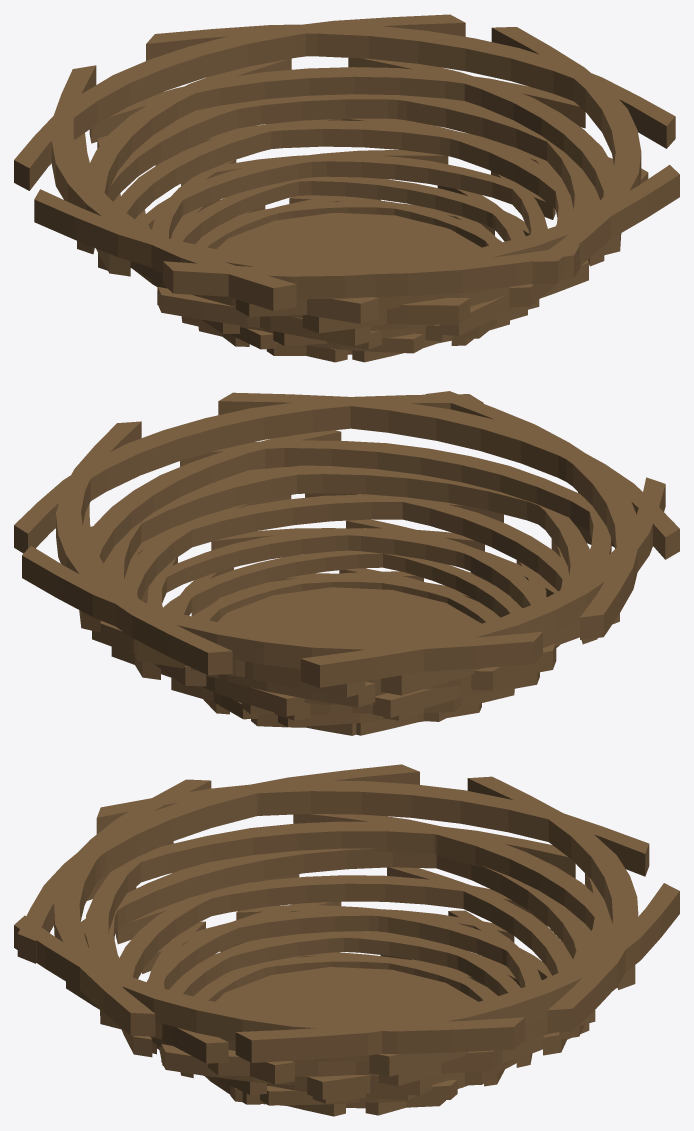
Rendered from Bird nest.fbx.
The picture shows the model from 3 angles, top to bottom: view 1: azimuth 30°, elevation 25°; view 2: azimuth 150°, elevation 25°; view 3: azimuth 270°, elevation 25°; orthographic projection.
Parts seen in each view (by area): view 1: Cylinder; view 2: Cylinder; view 3: Cylinder.
Boxes of the visible parts, bbox=[...] form: Cylinder: bbox=[14, 14, 679, 362]; Cylinder: bbox=[14, 391, 679, 735]; Cylinder: bbox=[14, 764, 679, 1116].
Bounding box in the file's own units: 1.3 × 0.2925 × 1.33.
